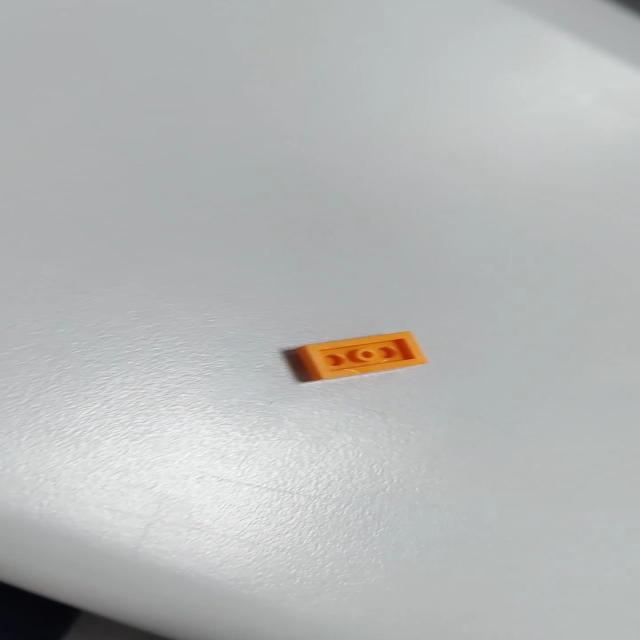C2x1x0: (289, 332, 443, 388)
